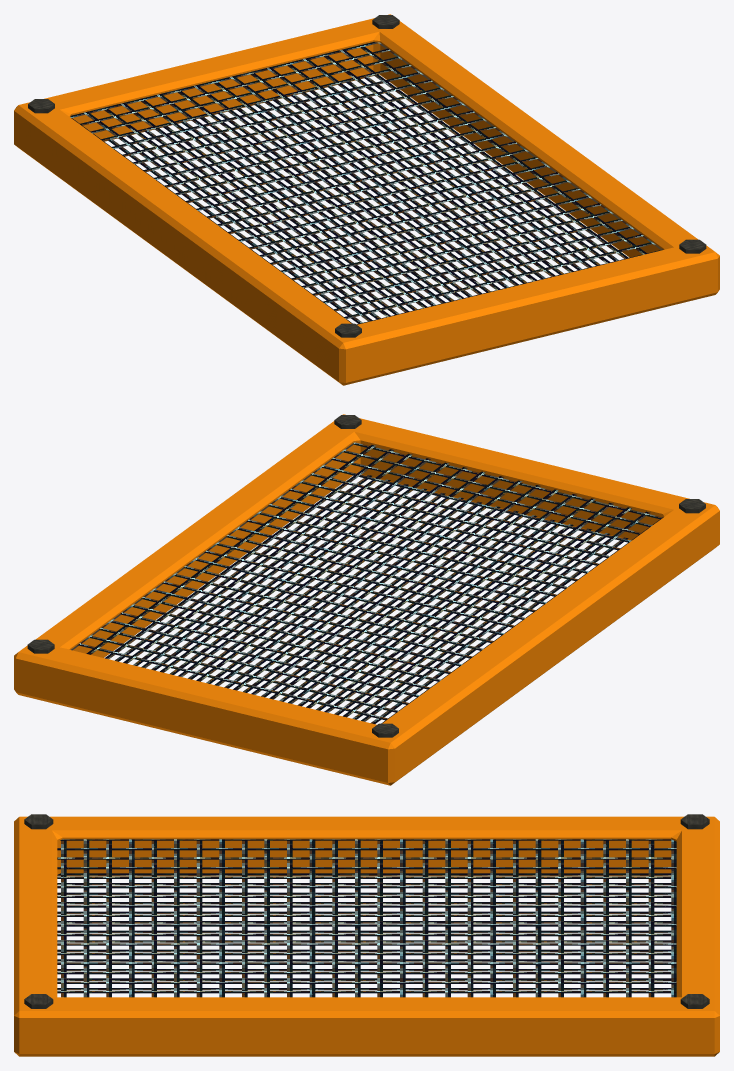
Rendered from MachineBossPlanetaryParts.fbx.
The picture shows the model from 3 angles, top to bottom: view 1: azimuth 30°, elevation 25°; view 2: azimuth 150°, elevation 25°; view 3: azimuth 270°, elevation 25°; orthographic projection. The views are drawn at different scales.
Parts seen in each view (by area): view 1: Circle, Circle.002, Circle.001; view 2: Circle, Circle.002, Circle.001; view 3: Circle, Circle.002, Circle.001.
Part boxes in pixels (x1=…): Circle: x1=14, y1=14, x2=719, y2=385; Circle.002: x1=70, y1=42, x2=662, y2=324; Circle.001: x1=28, y1=15, x2=706, y2=337; Circle: x1=14, y1=414, x2=719, y2=785; Circle.002: x1=71, y1=442, x2=663, y2=723; Circle.001: x1=27, y1=415, x2=705, y2=737; Circle: x1=14, y1=816, x2=719, y2=1056; Circle.002: x1=57, y1=839, x2=676, y2=997; Circle.001: x1=24, y1=814, x2=709, y2=1008.
Bounding box in the file's own units: 60000 × 7081 × 90000.
Materials: 3 (3 with a texture image).
